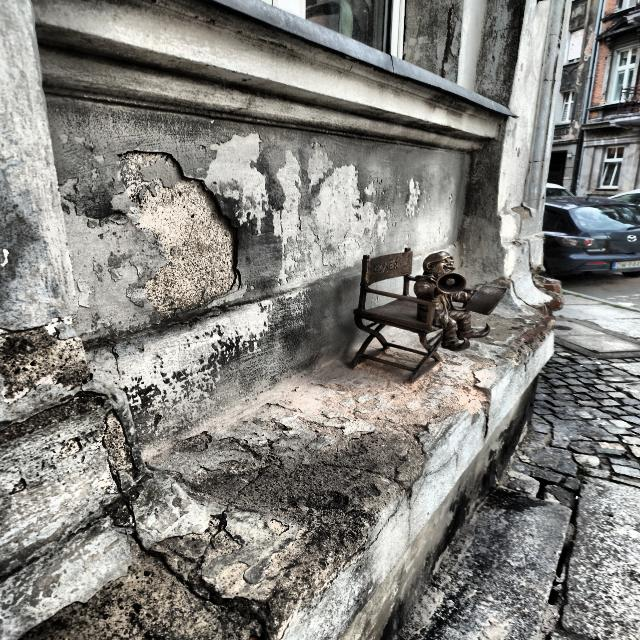Rezyser: (350, 249, 507, 381)
